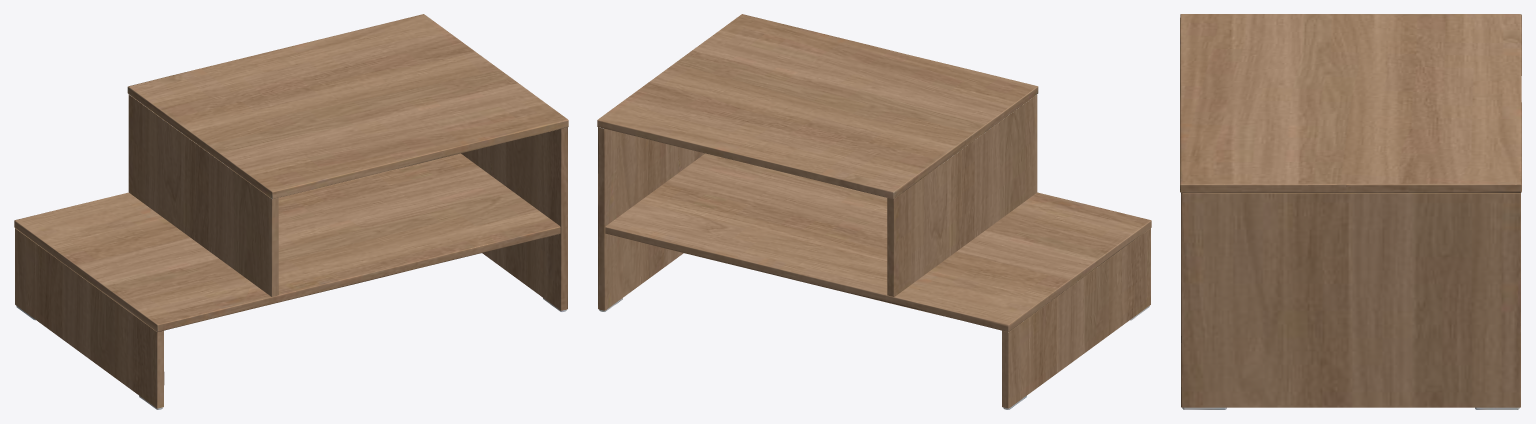
File: 10 - HOLMERUD Coffee table - oak effect 90x55 cm.glb
3 renders of one model, left to right at view 1: azimuth 30°, elevation 25°; view 2: azimuth 150°, elevation 25°; view 3: azimuth 270°, elevation 25°, orthographic. The views are drawn at different scales.
Visible parts, largest first — view 1: model; view 2: model; view 3: model.
Part boxes in pixels (left/top/right/bottom): model: left=14, top=14, right=568, bottom=409; model: left=597, top=14, right=1151, bottom=409; model: left=1180, top=14, right=1521, bottom=409.
Size of the model in its own units: 0.9 by 0.402 by 0.55.
1 material, 1 textured.
